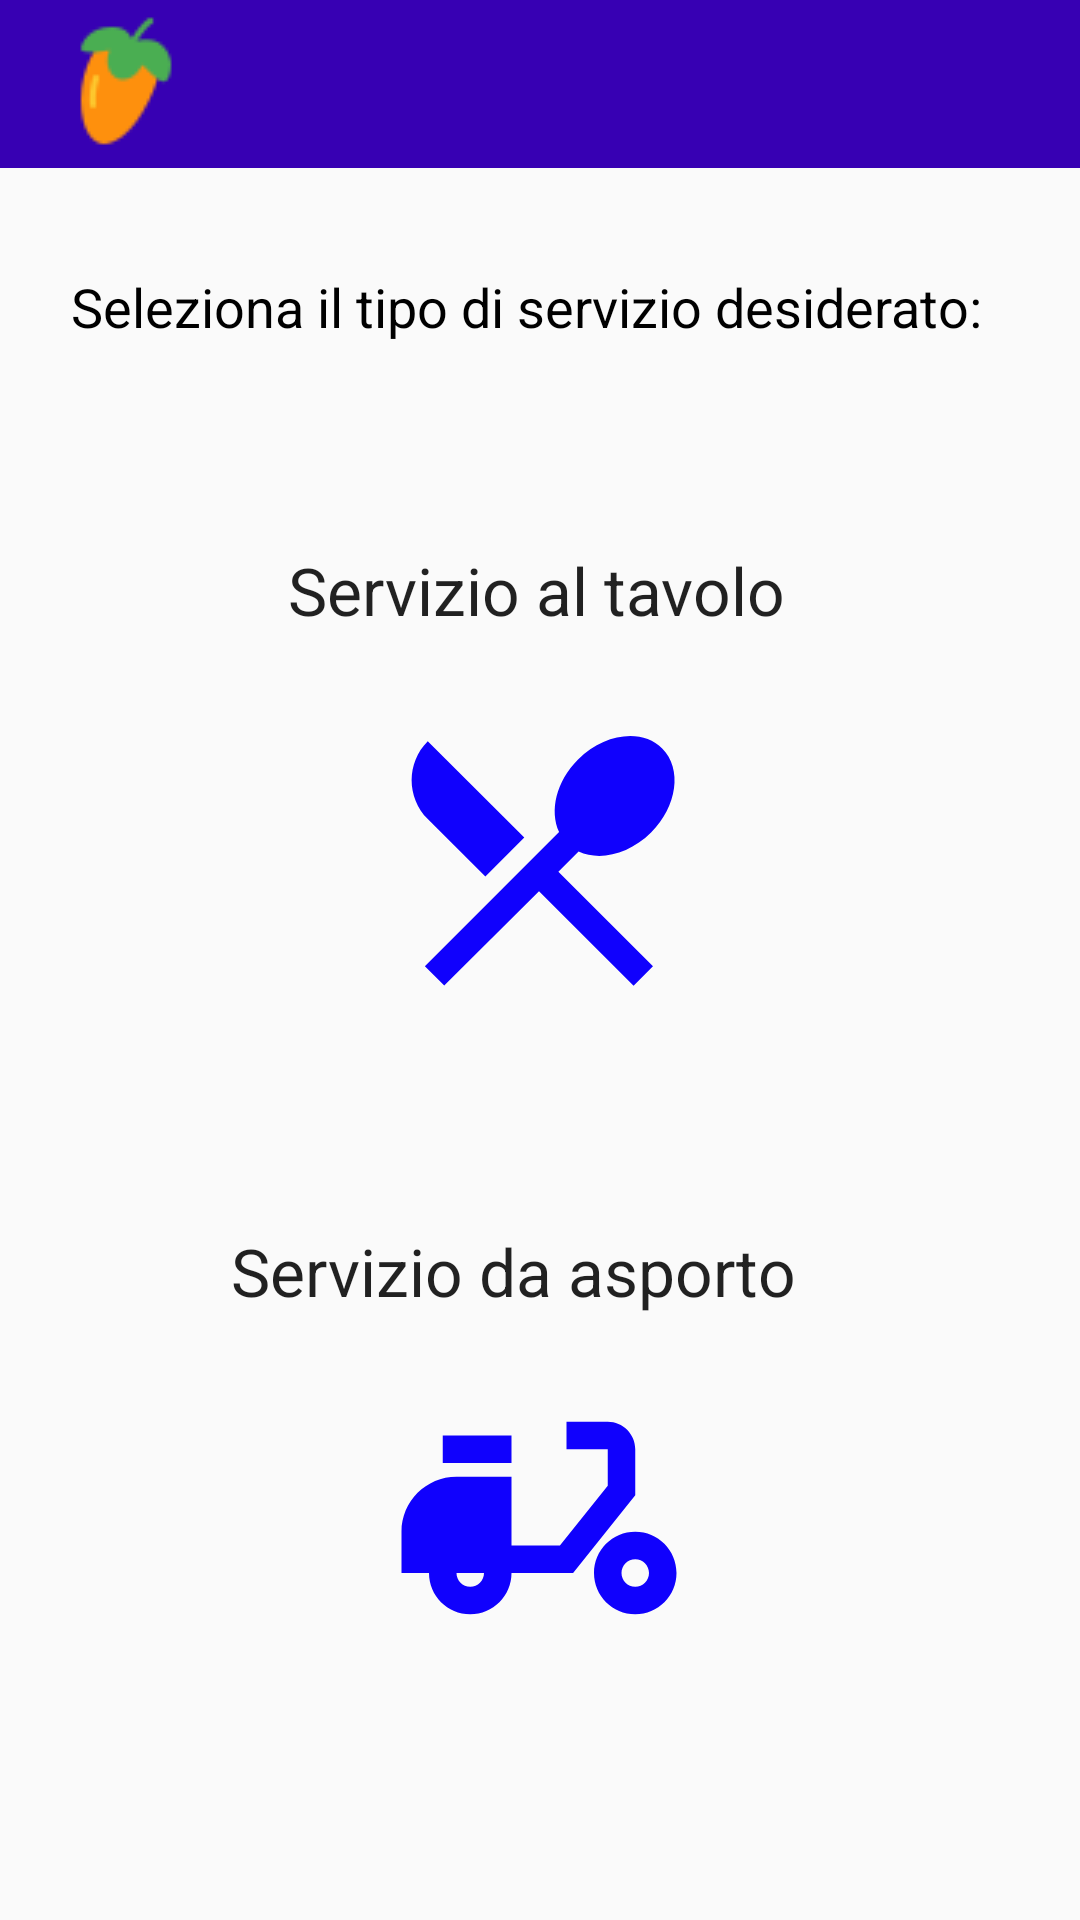

Named icons in this screenshot (1080w x 1920h) and their centers, [x,y]:
icona servizio ristorante: [543,861]
